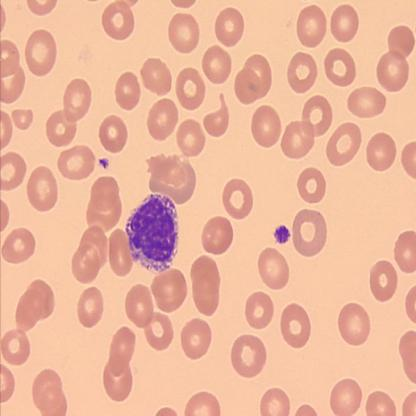Myelocyte: (128, 192, 178, 270)
